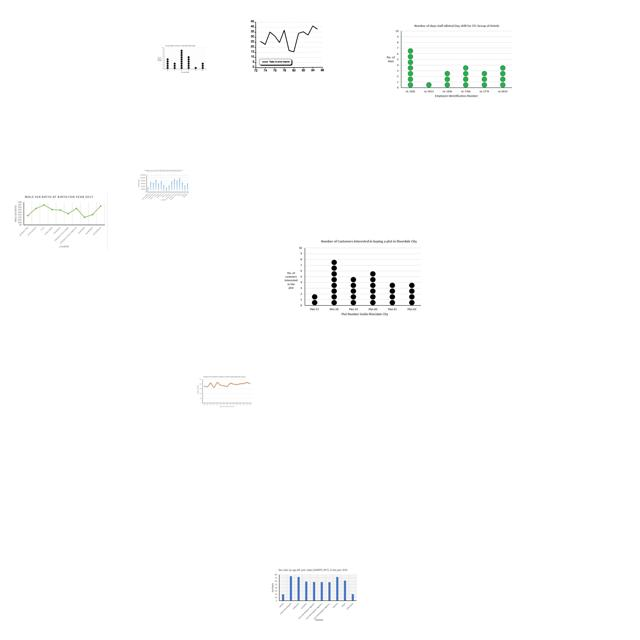Graph: (284, 238, 421, 318), (383, 21, 514, 101), (11, 193, 108, 251), (269, 568, 358, 621), (247, 17, 327, 73), (196, 375, 253, 409), (137, 169, 190, 201), (156, 44, 207, 74)
